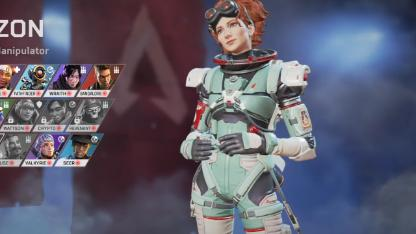Target: (186, 1, 292, 223)
